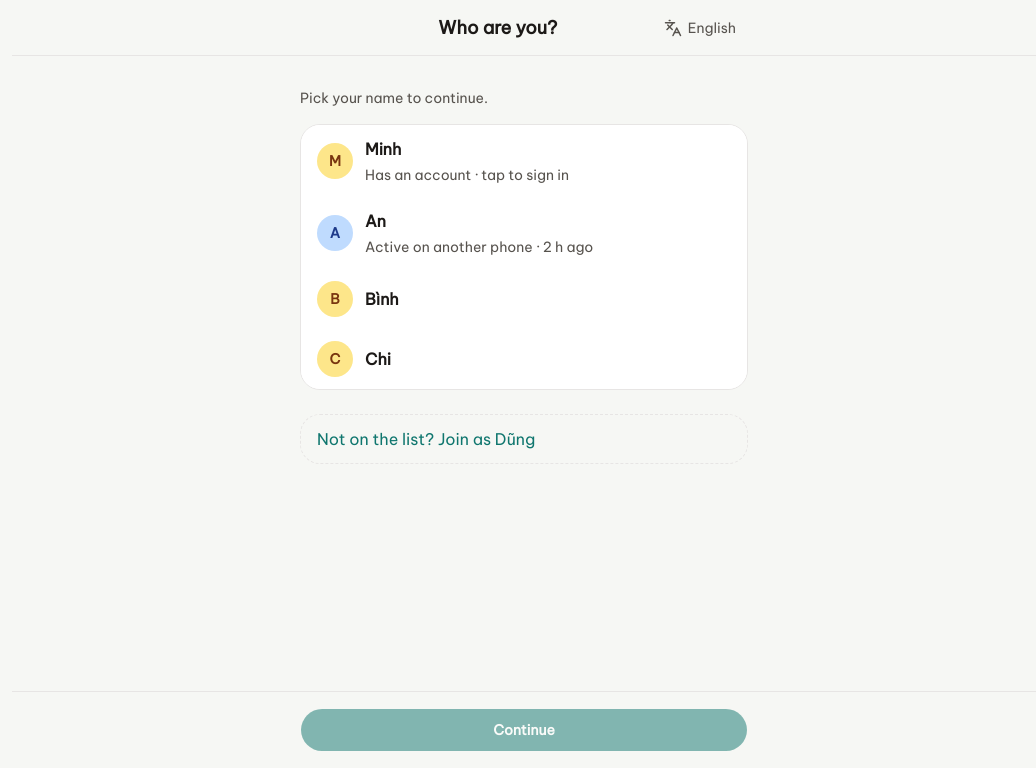
Test case: after joining from the trip page › a signed-in user who joins lands in the trip, not back on who-are-you
Click the button "Not on the list? Join as Dũng": coordinates (524, 439) top-left (300, 414), bottom-right (748, 464)
(page scrolled)
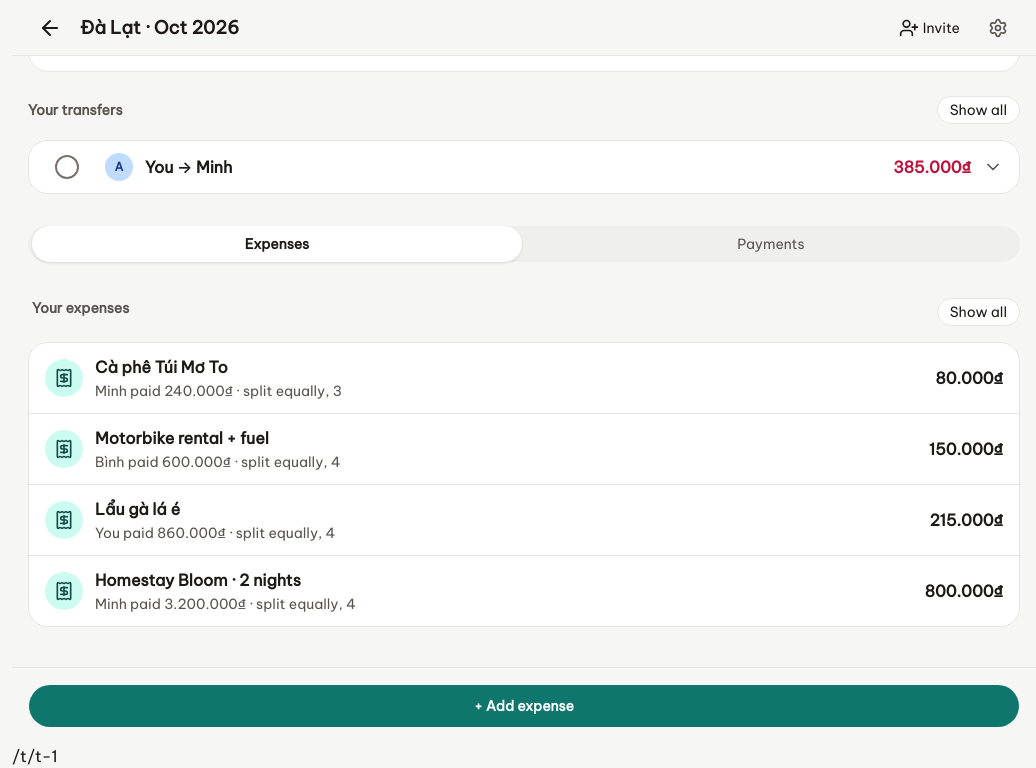
Result: the text with test id "location" reads "/t/t-1" at top-left (12, 746), bottom-right (58, 766)
Result: the button "Not on the list? Join as Dũng" is gone
